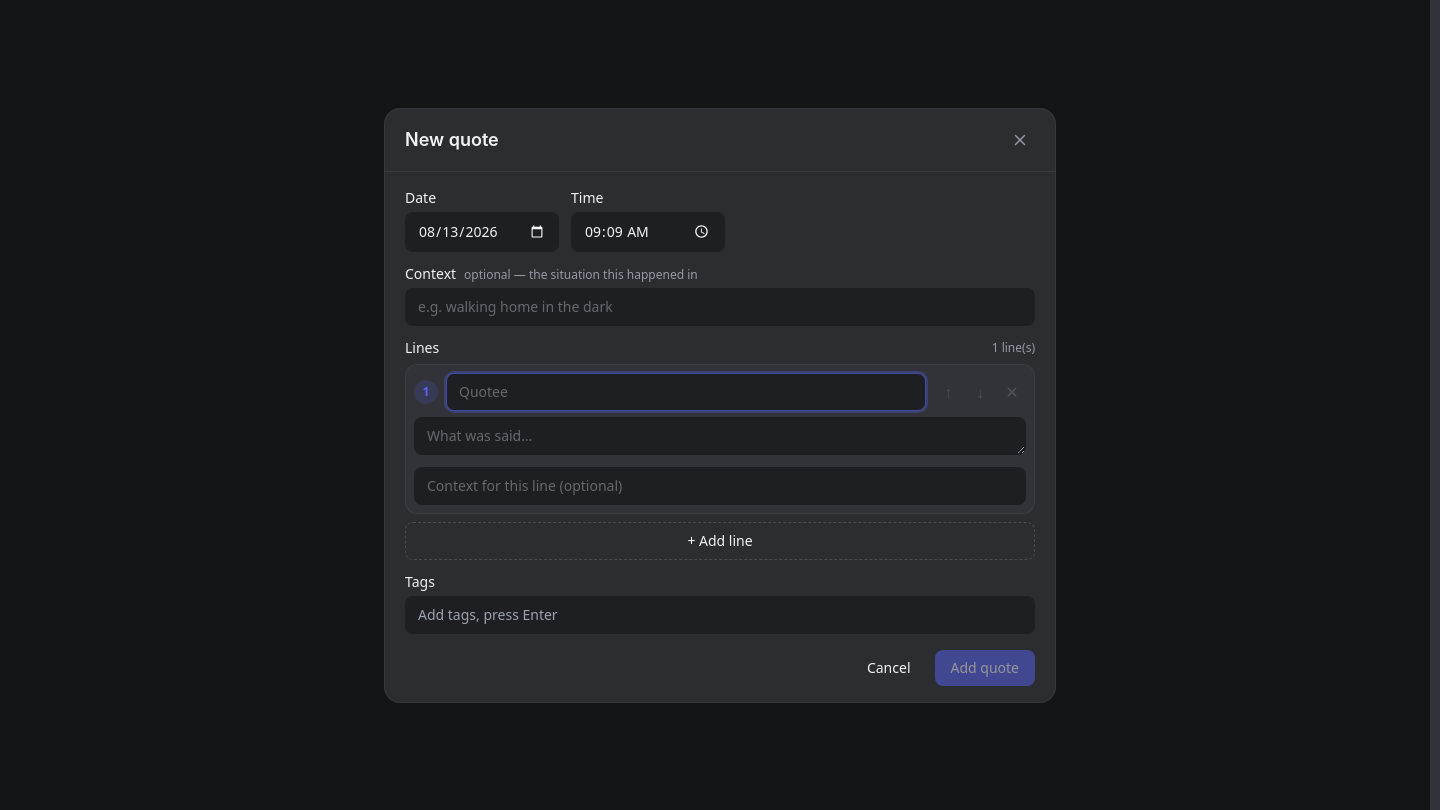
Test: QuoteModal › does NOT carry a stale error into the next open
Type "Jake" into the field with placeholder "Quotee" at (686, 392), box [446,372,926,410]
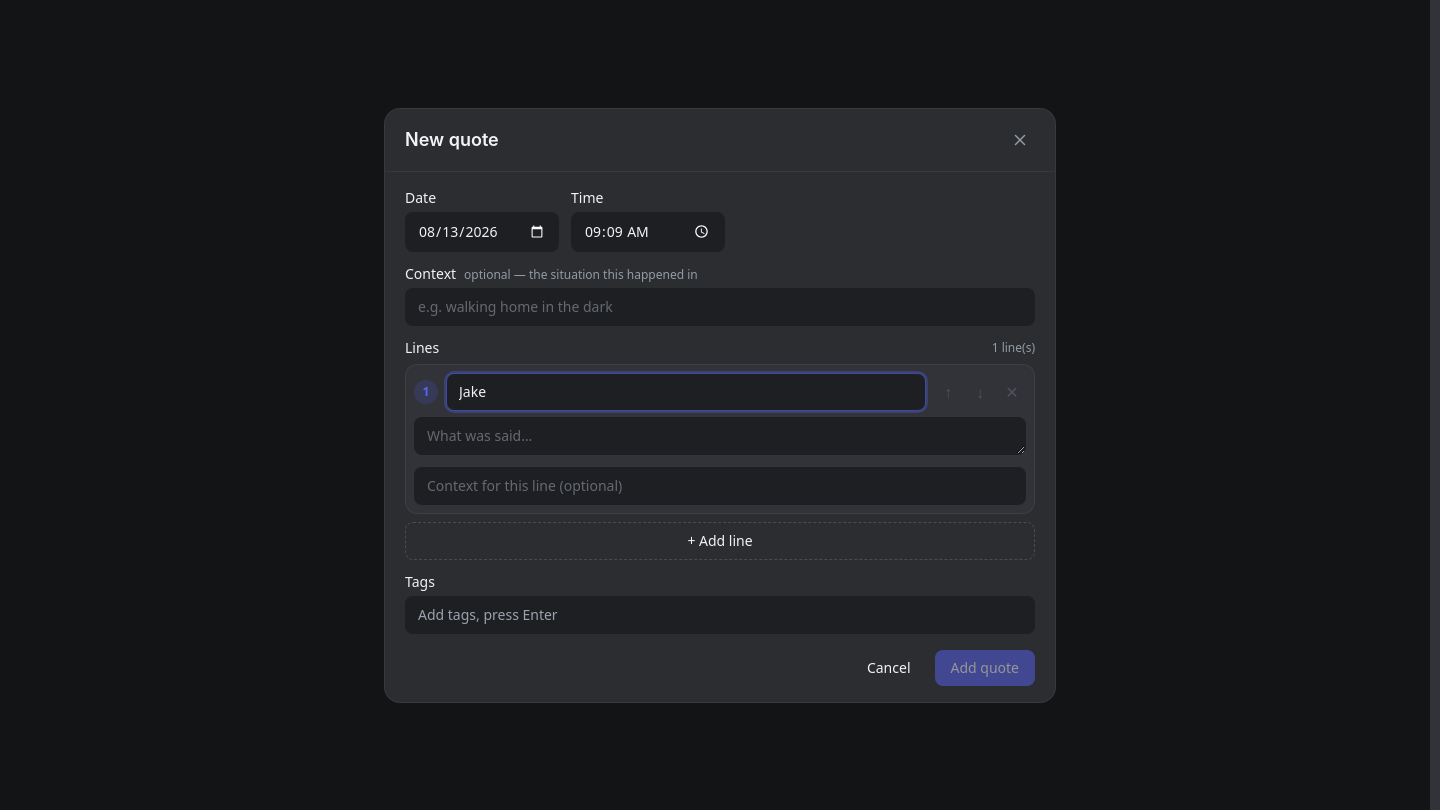
Type "milk a cow" into the text box with placeholder "What was said…" at (720, 436), box [414,416,1026,454]
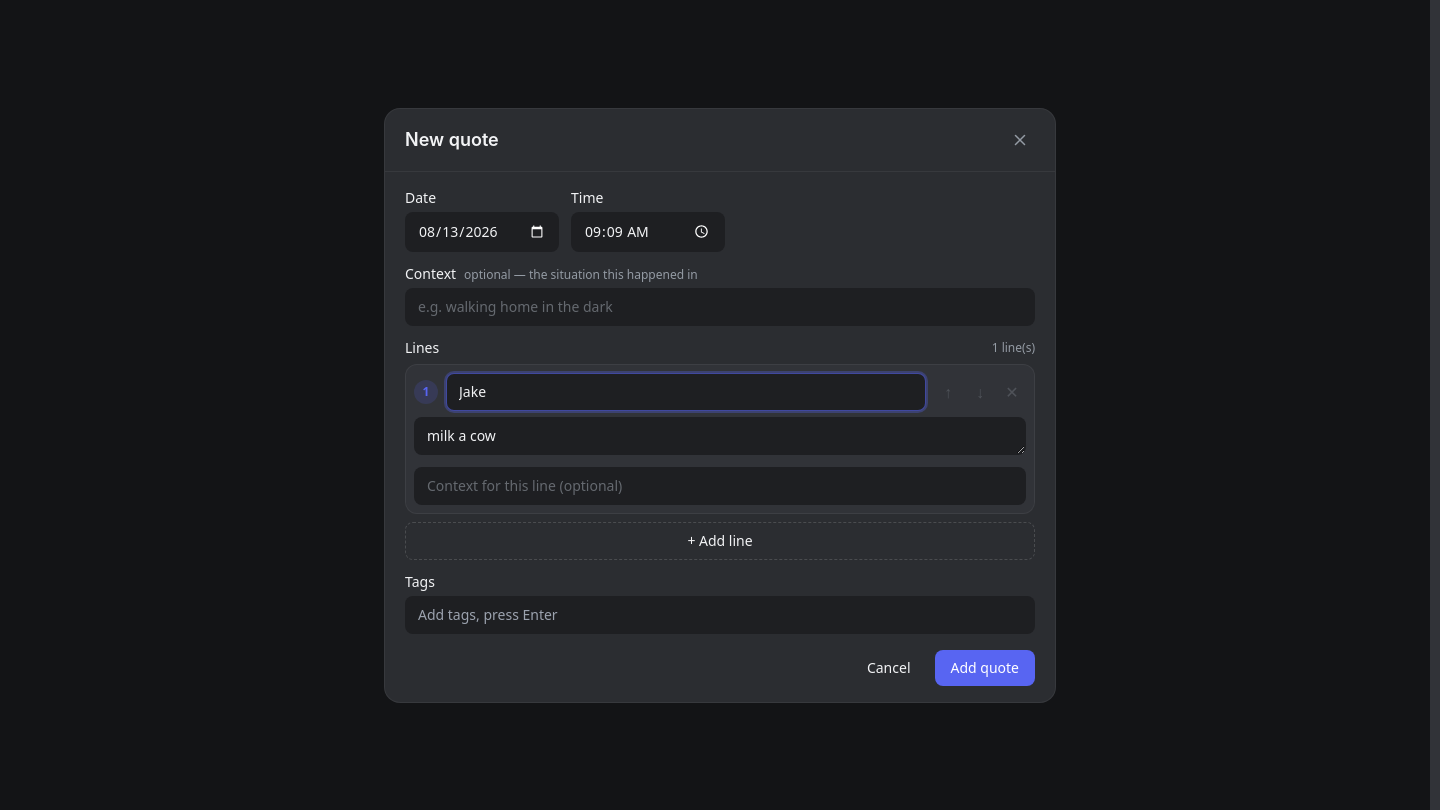
Click the button "Add quote" at (985, 668), box [934,650,1035,686]
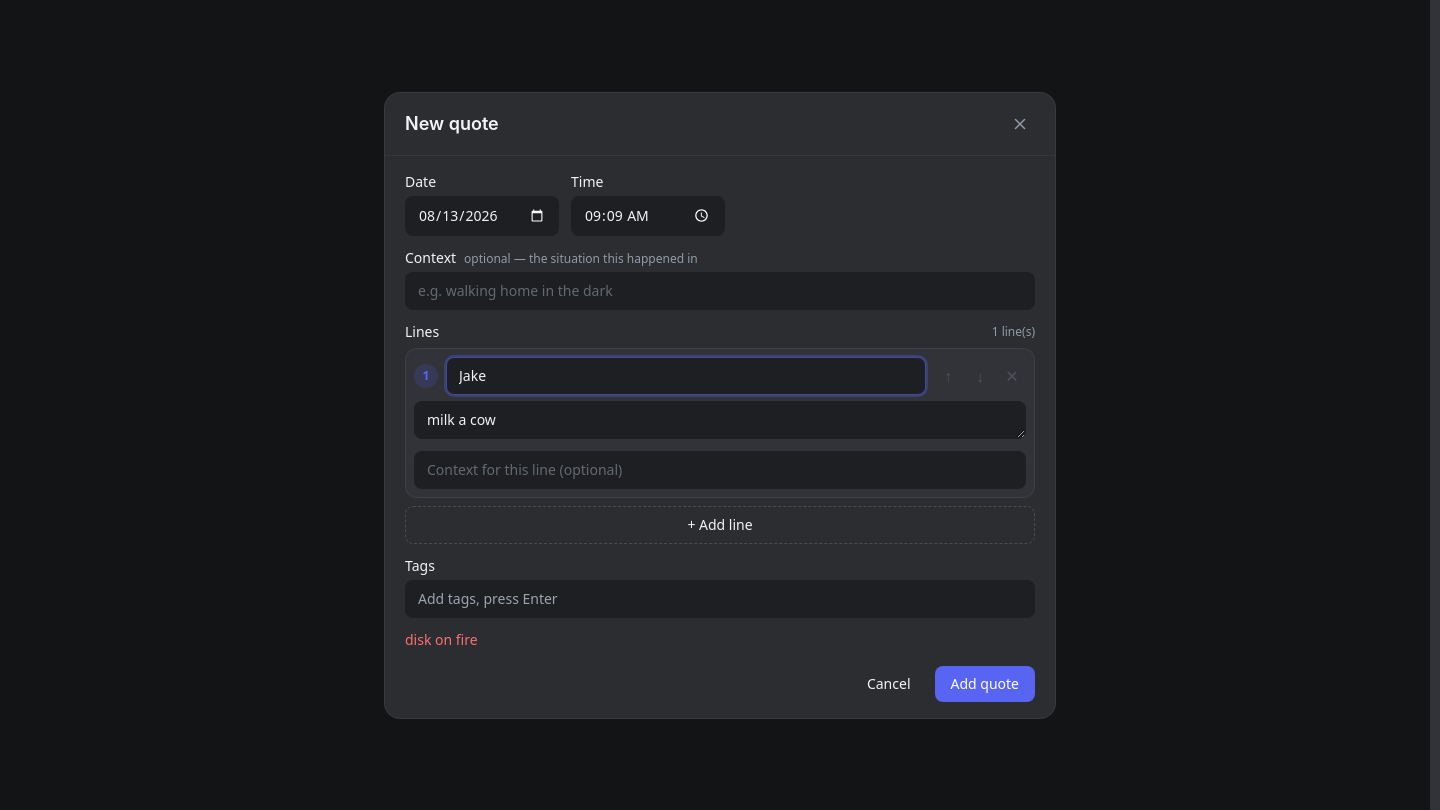
Expected: the text "disk on fire" is shown, [405,630,478,648]
Click the button "Cancel" at (889, 684), box [851,666,926,702]
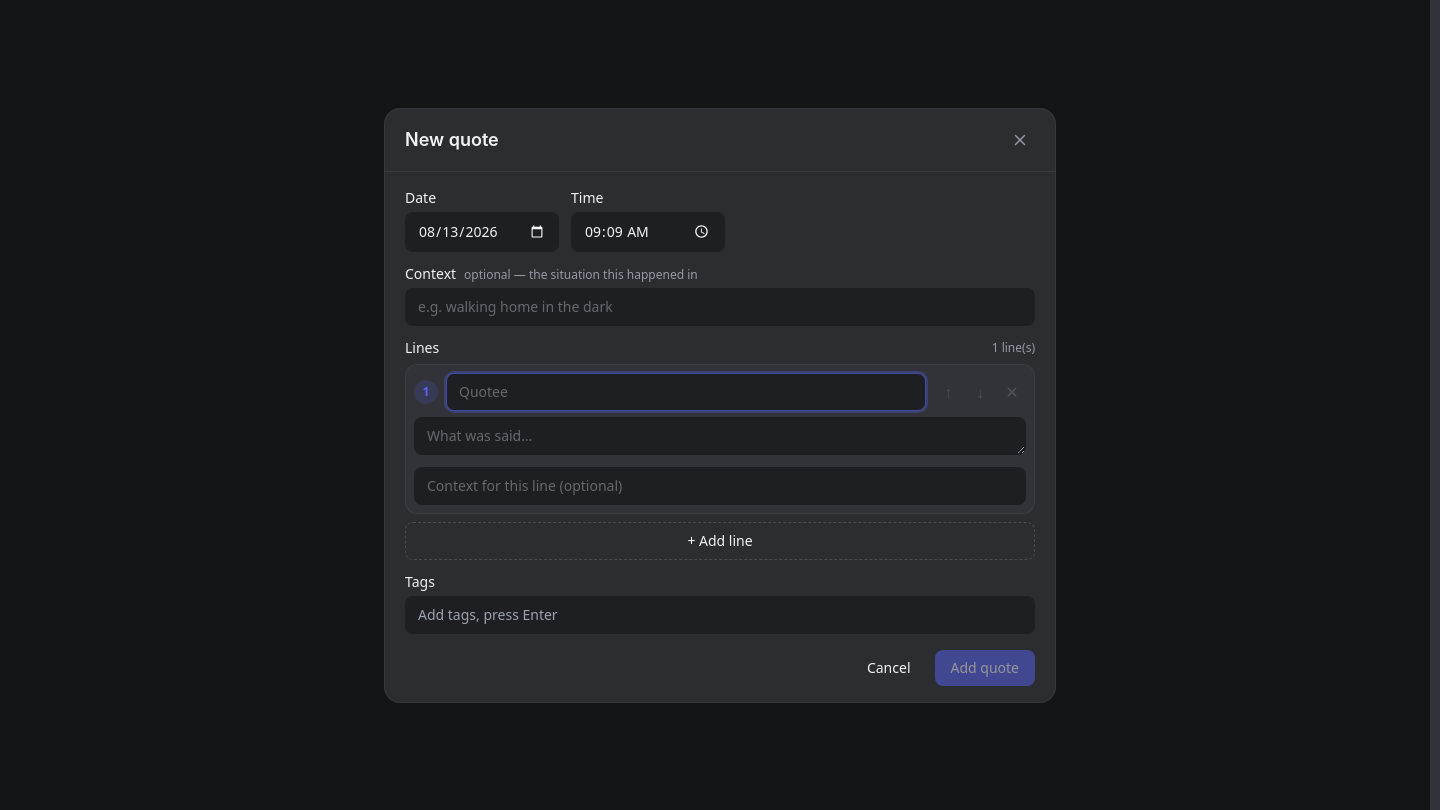
Expected: the text "disk on fire" is gone
